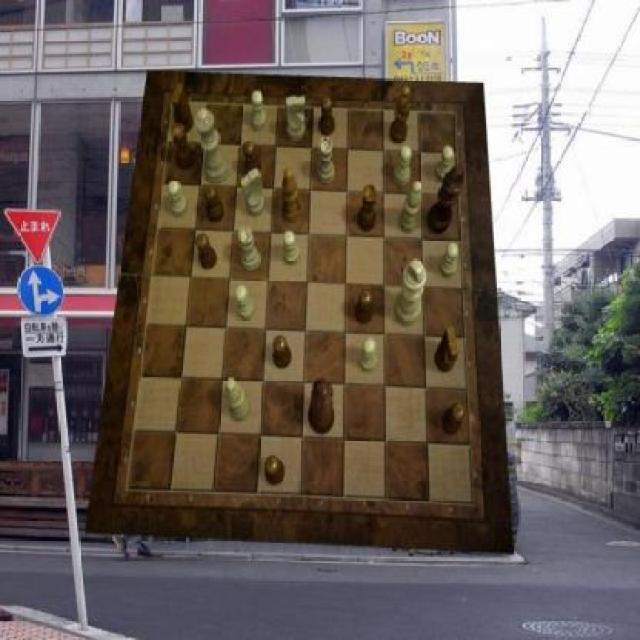bishop: (391, 86, 412, 145), (282, 169, 300, 223)
black-bishop: (428, 164, 465, 236)
black-king: (172, 83, 195, 132), (436, 328, 458, 373)
black-knight: (443, 402, 466, 436), (196, 234, 217, 270), (204, 186, 224, 222), (318, 97, 336, 137), (243, 142, 261, 180), (272, 336, 292, 370), (355, 289, 373, 324), (266, 456, 286, 486)
black-pawn: (308, 379, 334, 436)
black-queen: (172, 123, 197, 171), (357, 185, 377, 232)
black-rook: (400, 181, 423, 234), (226, 378, 251, 421)
white-bishop: (394, 260, 427, 328)
white-king: (240, 169, 265, 217), (286, 95, 306, 141)
white-knight: (392, 146, 412, 185), (168, 180, 188, 218), (236, 284, 256, 320), (440, 242, 460, 278), (436, 146, 456, 182), (251, 91, 266, 131), (359, 339, 376, 373), (283, 231, 300, 265)
white-pawn: (195, 108, 231, 184)
white-queen: (238, 226, 261, 272), (316, 137, 334, 185)
